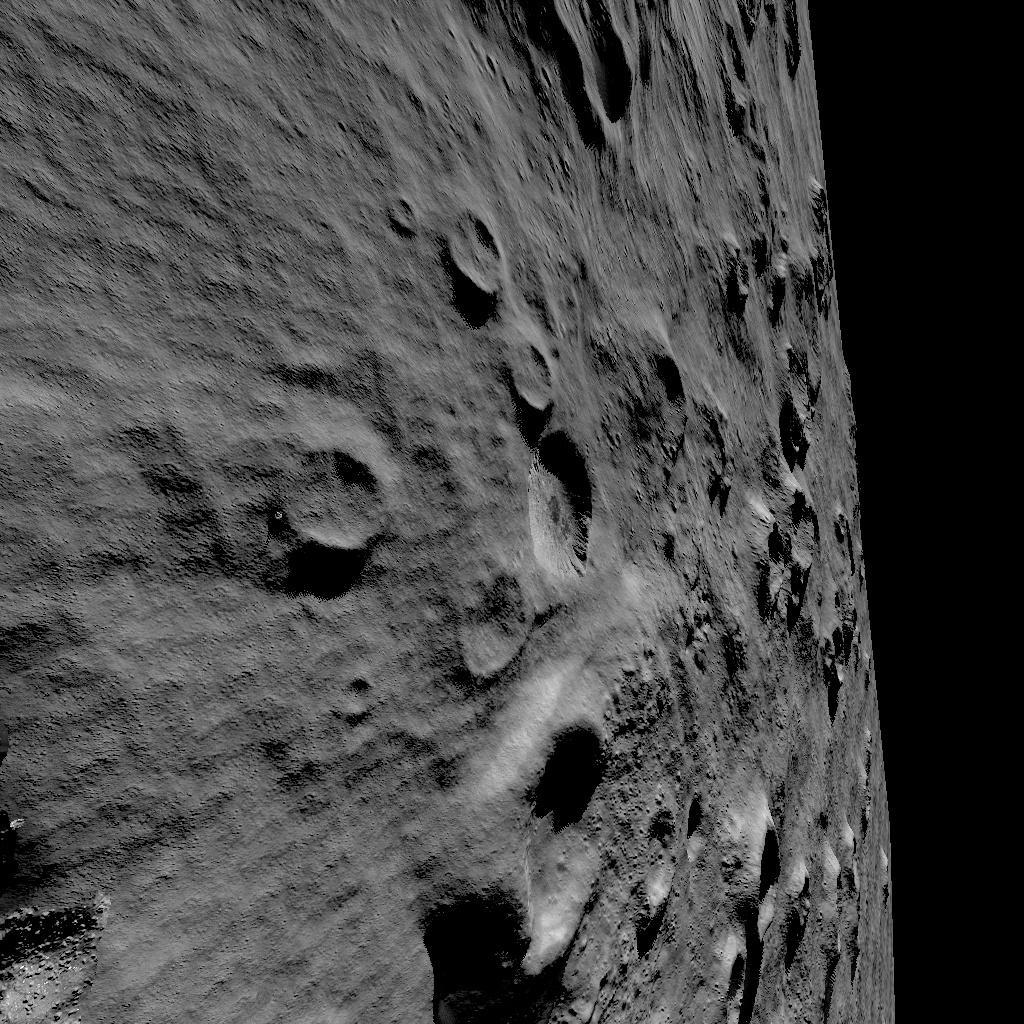Boulders: (0, 708, 113, 1024)
Crater: (436, 200, 598, 585), (440, 682, 620, 1010), (638, 775, 872, 1024), (756, 340, 860, 723), (454, 0, 668, 150), (708, 0, 810, 163), (621, 320, 710, 505), (728, 172, 836, 320), (274, 435, 390, 565)
Plan surface: (0, 0, 423, 420), (134, 702, 420, 1024), (0, 435, 261, 690)
